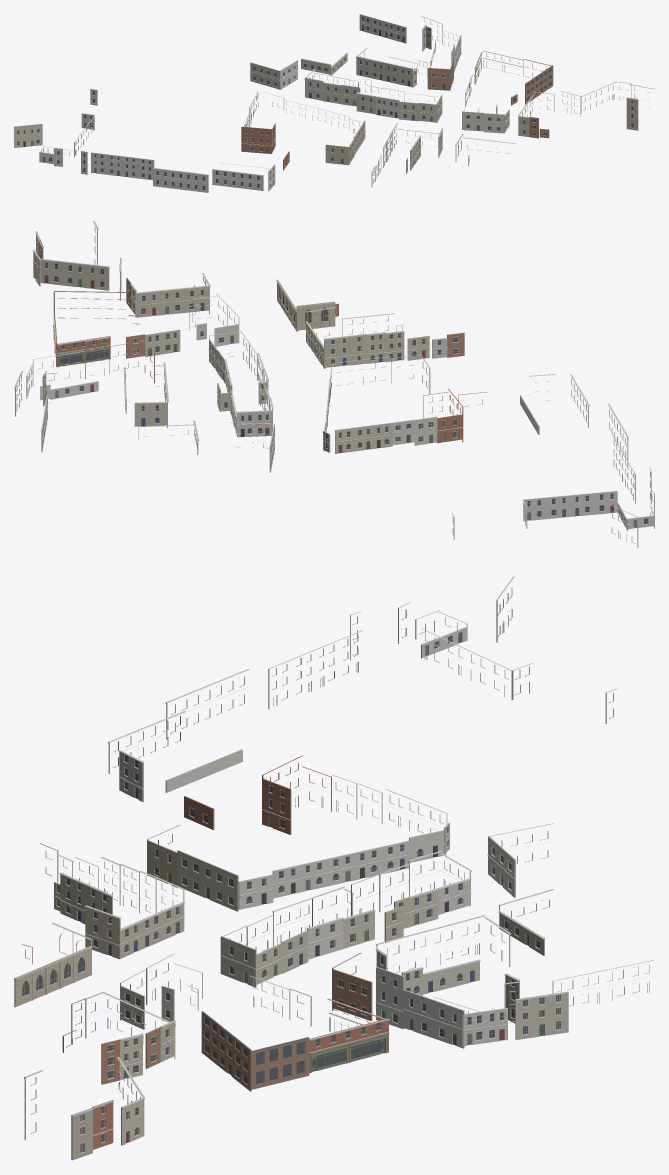
The picture shows the model from 3 angles, top to bottom: view 1: azimuth 30°, elevation 25°; view 2: azimuth 150°, elevation 25°; view 3: azimuth 270°, elevation 25°; orthographic projection. The views are drawn at different scales.
Visible parts, largest first — view 1: f:way/192259387, f:way/1362880010, f:way/127812947, f:way/130065917, f:way/192260763, f:way/127812943, f:way/127764625, f:way/147549439, f:way/147985064, f:way/127766204, f:way/192260764, f:way/192234621 (+15 smaller); view 2: f:way/192259387, f:way/147549439, f:way/192234623, f:way/127764623, f:way/146205315, f:way/127764634, f:way/192260761, f:way/127812947, f:way/127766208, f:way/130065920, f:way/192260763, f:way/1362880010 (+5 smaller); view 3: f:way/192260759, f:way/147549439, f:way/127766208, f:way/127764625, f:way/1362880010, f:way/127764634, f:way/127766205, f:way/127812947, f:way/146205315, f:way/192259387, f:way/147984433, f:way/192253139 (+17 smaller).
Boxes of the visible parts, x1,y1,x2,y2 form: f:way/192259387: (39,89,154,180); f:way/1362880010: (153,162,275,192); f:way/127812947: (356,48,427,87); f:way/130065917: (250,60,297,89); f:way/192260763: (241,123,275,153); f:way/127812943: (359,14,406,43); f:way/127764625: (511,59,553,105); f:way/147549439: (382,123,442,170); f:way/147985064: (14,123,42,147); f:way/127766204: (427,59,453,90); f:way/192260764: (325,139,354,165); f:way/192234621: (484,104,509,133); f:way/192259387: (452,436,654,539); f:way/147549439: (305,307,404,368); f:way/192234623: (130,279,210,317); f:way/127764623: (32,249,109,290); f:way/146205315: (276,279,335,331); f:way/127764634: (53,314,110,367); f:way/192260761: (335,422,392,453); f:way/127812947: (123,362,168,427); f:way/127766208: (26,337,108,400); f:way/130065920: (233,397,273,437); f:way/192260763: (423,389,463,443); f:way/1362880010: (520,374,628,463); f:way/192260759: (238,822,450,909); f:way/147549439: (59,857,185,959); f:way/127766208: (375,967,507,1048); f:way/127764625: (201,1011,309,1091); f:way/1362880010: (107,668,249,801); f:way/127764634: (309,998,389,1073); f:way/127766205: (504,973,568,1039); f:way/127812947: (375,915,511,995); f:way/146205315: (14,923,92,1007); f:way/192259387: (268,602,617,723); f:way/147984433: (177,850,238,911); f:way/192253139: (220,925,282,987).
Size of the model in its own units: 215 by 14.89 by 112.
